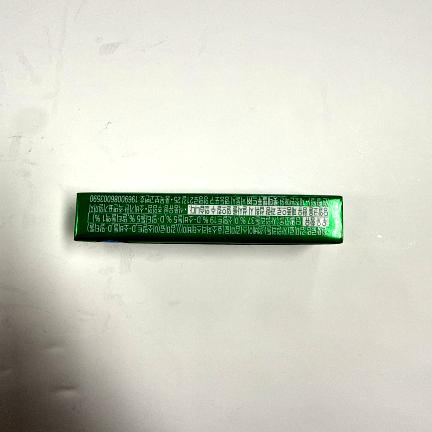gum_green: (74, 193, 345, 242)
